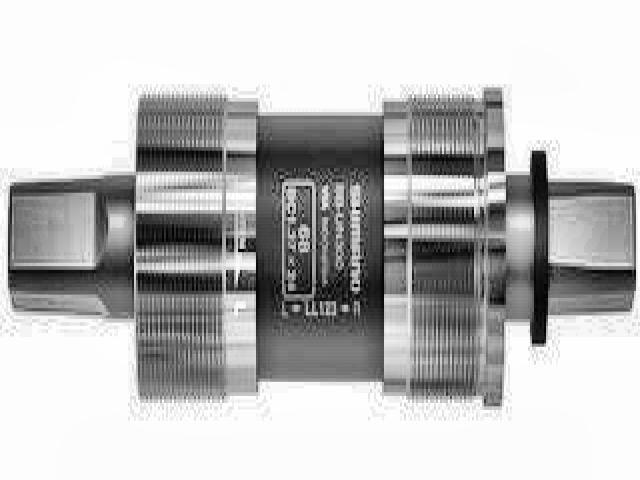bottom_bracket: (5, 84, 638, 411)
